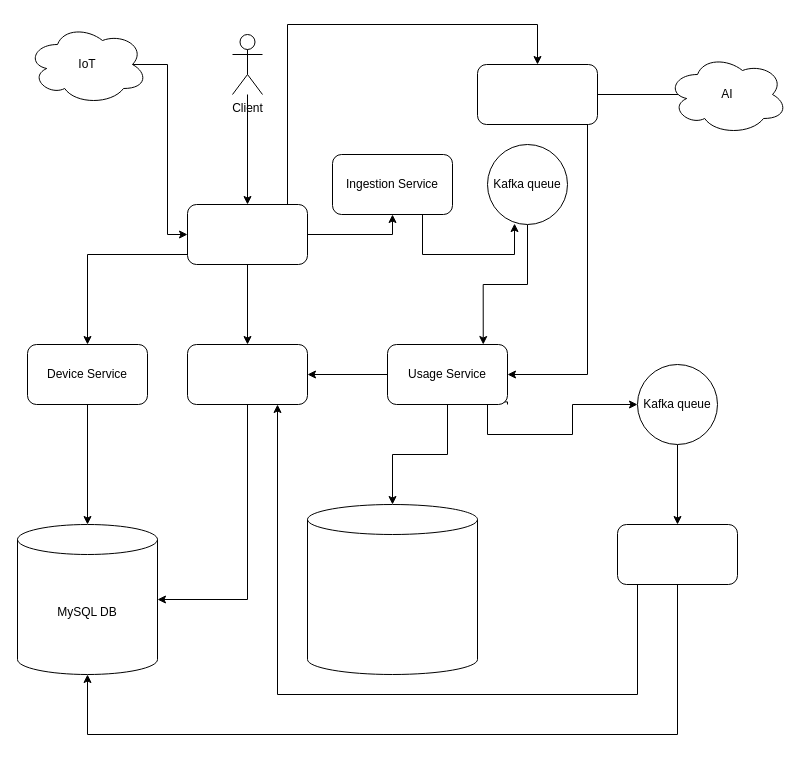
This 805x760 diagram has some shape labels left out. Each missing label, with the centre of its shape:
Alert Service: point 677,554
API gateway: point 247,234
Insight Service: point 537,94
Timeseries DB: point 392,589
User Service: point 247,374
